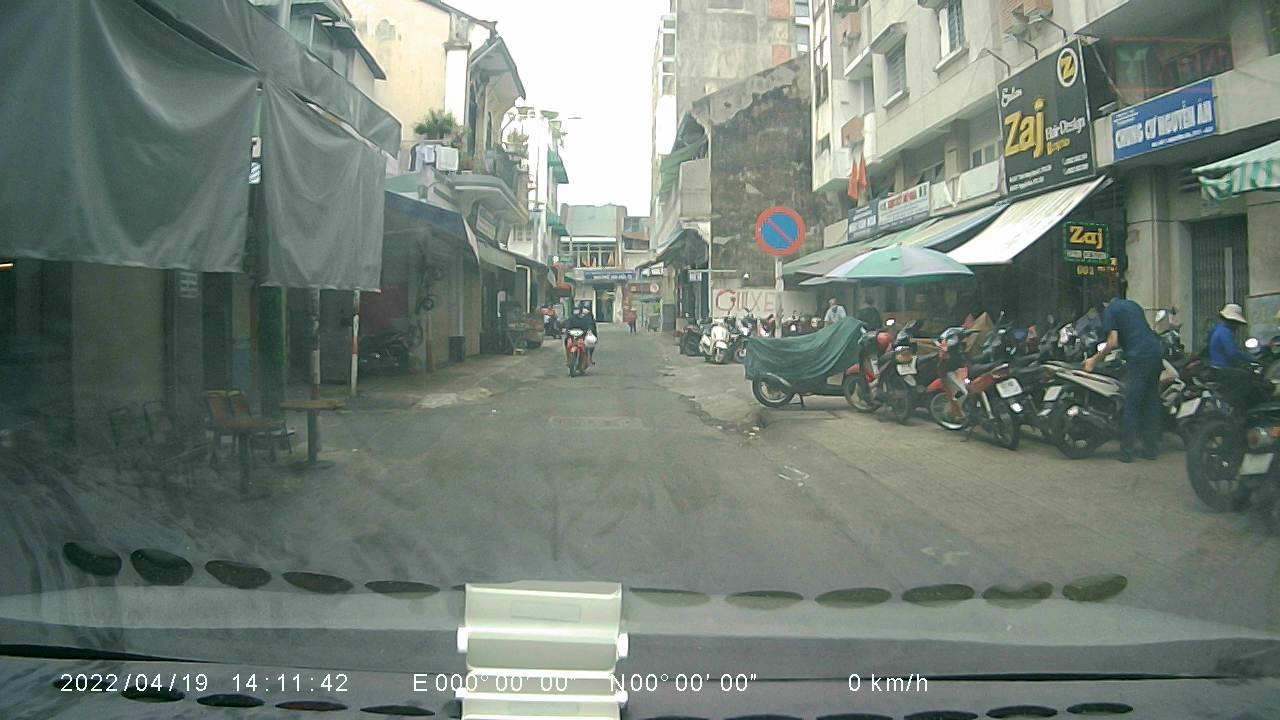Cam do xe: (754, 203, 804, 258)
